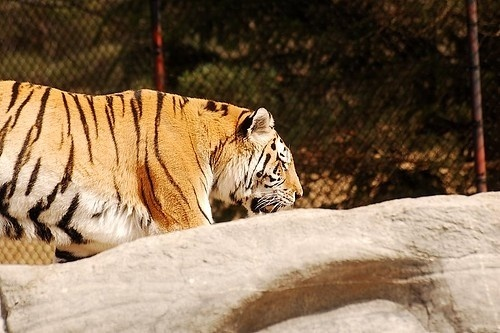tigre: (1, 76, 306, 245)
